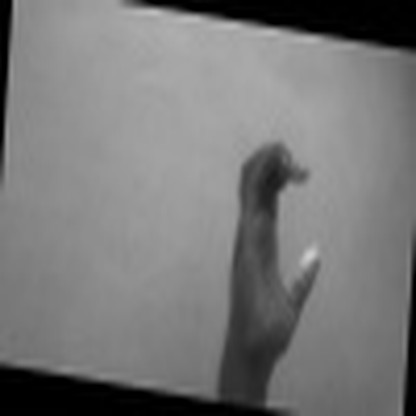c: (224, 121, 327, 347)
